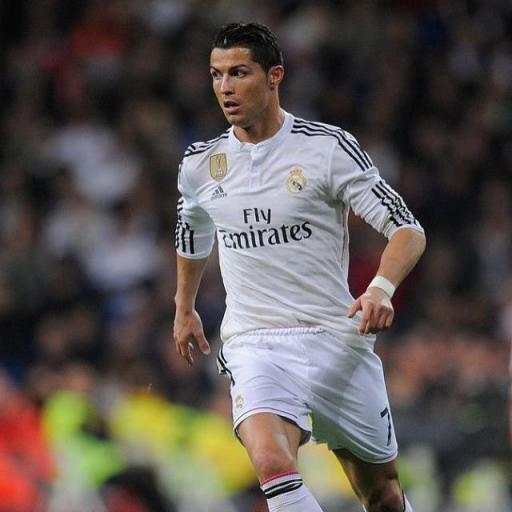Adidas: (209, 183, 228, 201)
Emirates: (216, 205, 312, 251)
